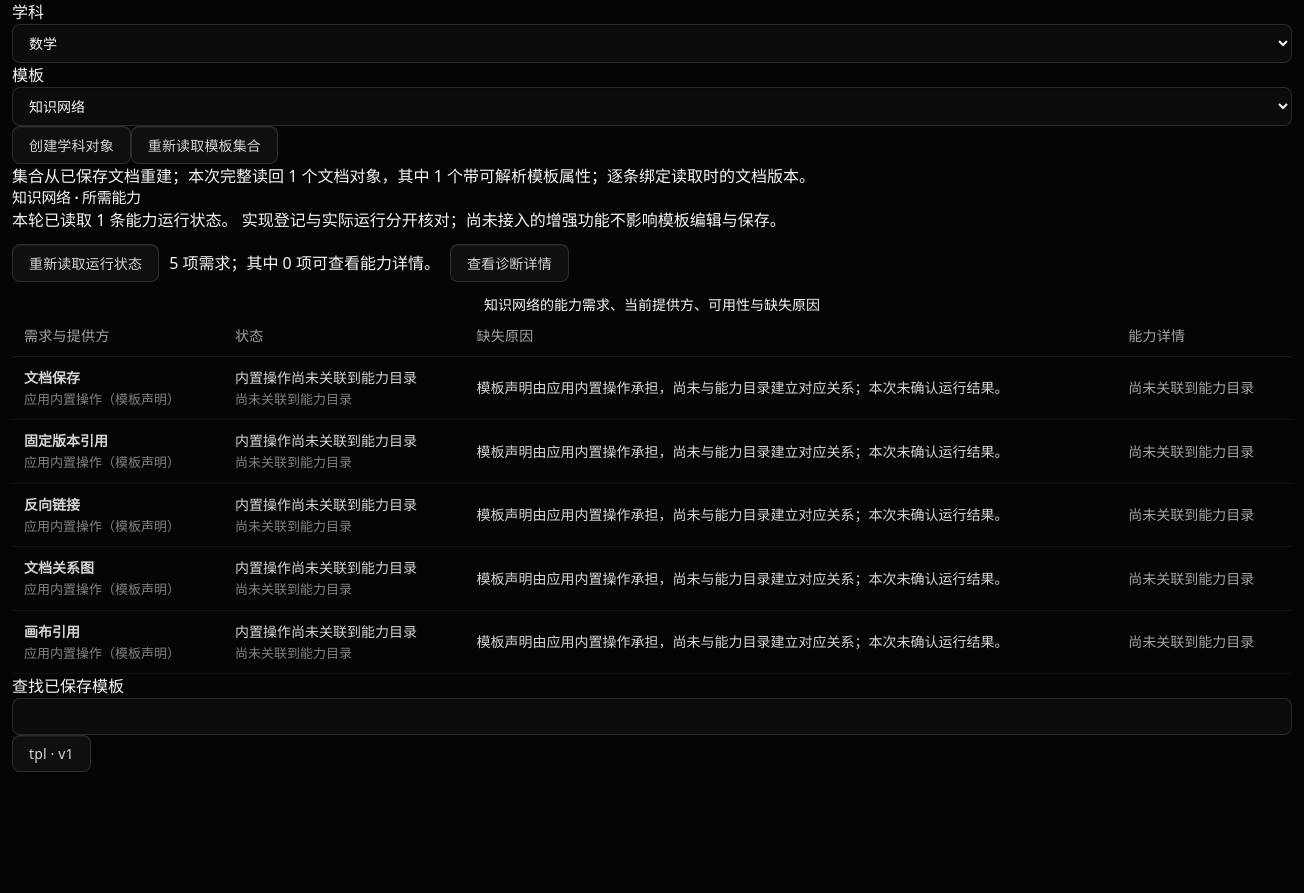
template detail renders the requirement table › shows provider, availability and missing reason per requirement, and links only what resolves
Click the button "tpl · v1" at coordinates (51, 754), box [12, 735, 91, 772]
(page scrolled)
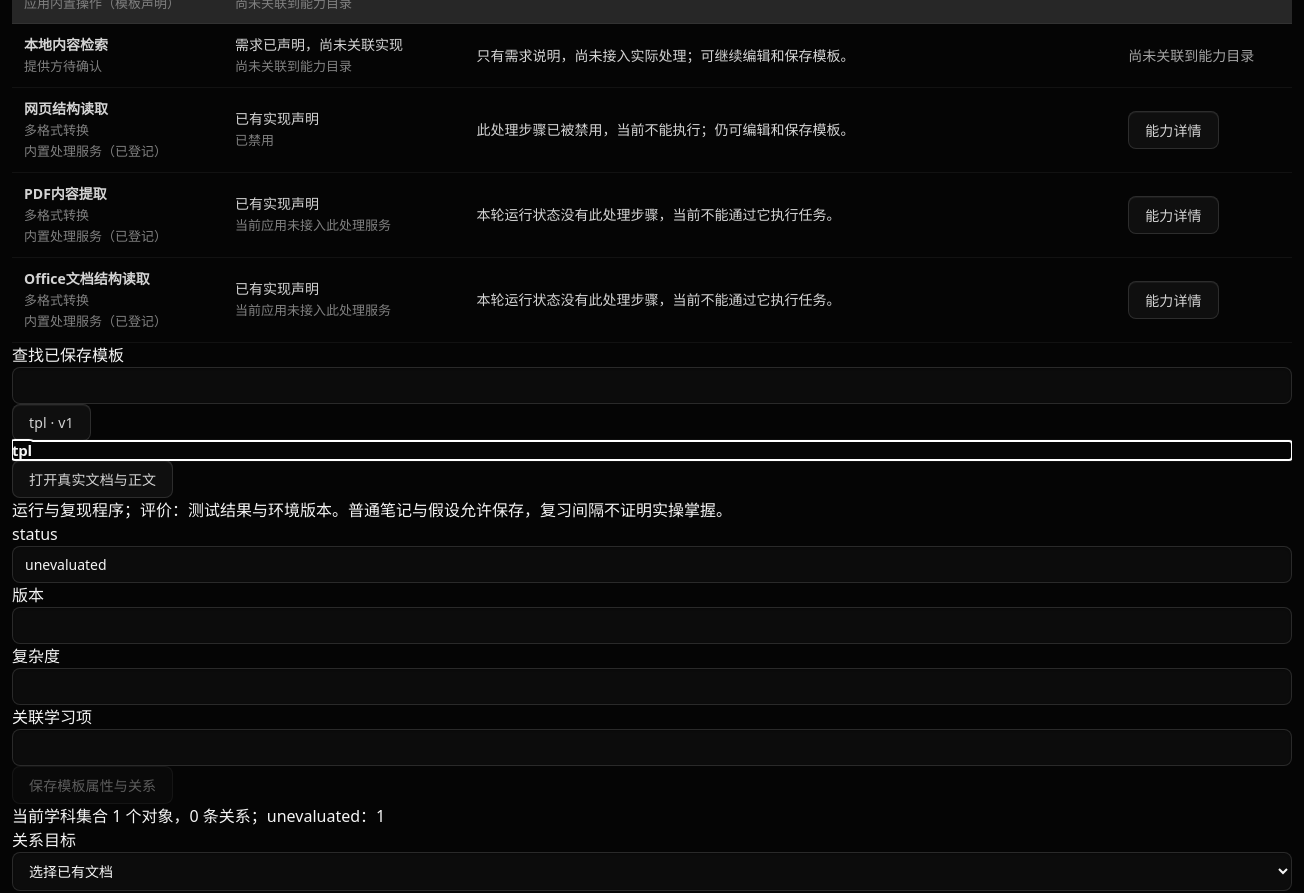
Now the row "网页结构读取" shows "已禁用", box [235, 131, 274, 149]
Now the row "PDF内容提取" shows "当前应用未接入此处理服务", box [235, 216, 391, 234]
Now the row "本地内容检索" shows "尚未关联到能力目录", box [235, 57, 352, 75]
